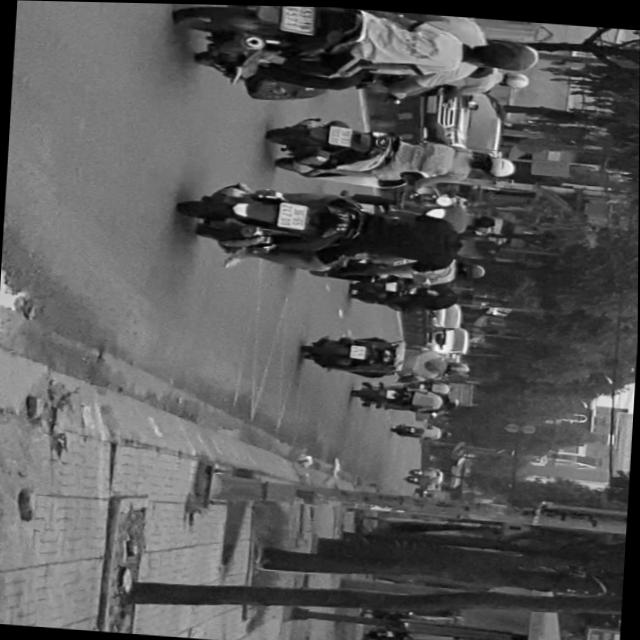helmet: (474, 149, 517, 176), (503, 39, 540, 69), (500, 69, 530, 86)
licenseplate: (170, 3, 544, 113), (175, 175, 508, 287), (263, 113, 520, 195)
motorcyclist: (463, 37, 516, 69), (458, 232, 500, 259)
nohelmet: (281, 5, 314, 31), (278, 202, 307, 227), (329, 125, 352, 144)
